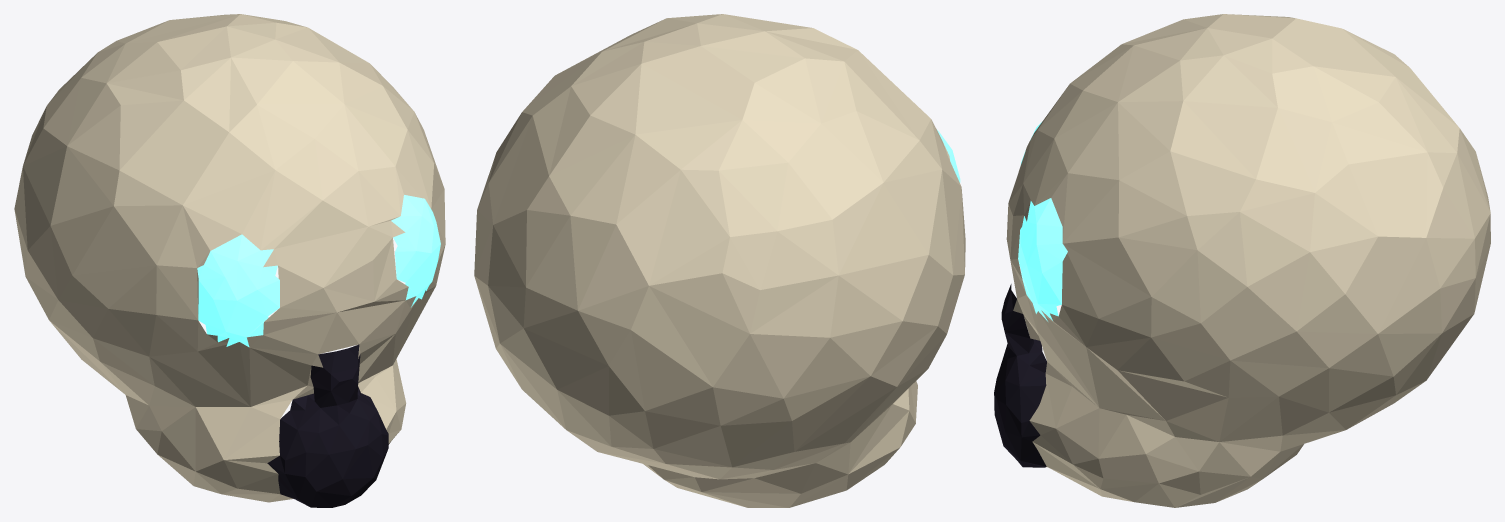
File: spirit_choir_skull.glb
3 views of the same model, side by side, from view 1: azimuth 30°, elevation 25°; view 2: azimuth 150°, elevation 25°; view 3: azimuth 270°, elevation 25° (orthographic). The views are drawn at different scales.
Parts seen in each view (by area): view 1: spirit_choir_skull; view 2: spirit_choir_skull; view 3: spirit_choir_skull.
Boxes of the visible parts, x1,y1,x2,y2 form: spirit_choir_skull: (14, 14, 445, 507); spirit_choir_skull: (474, 14, 965, 507); spirit_choir_skull: (994, 14, 1490, 507).
Size of the model in its own units: 0.3335 by 0.3686 by 0.367.
